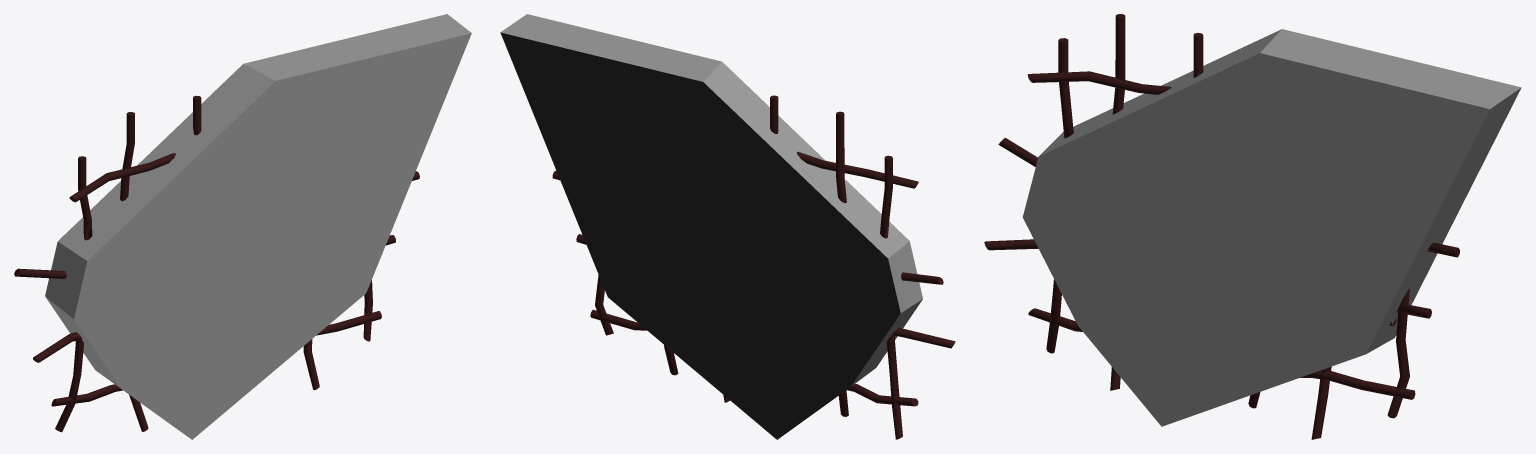
The model's file is P_DébrisSeul1.fbx.
3 renders of one model, left to right at view 1: azimuth 30°, elevation 25°; view 2: azimuth 150°, elevation 25°; view 3: azimuth 330°, elevation 25°, orthographic. The views are drawn at different scales.
Parts seen in each view (by area): view 1: P_DébrisSeul1; view 2: P_DébrisSeul1; view 3: P_DébrisSeul1.
Boxes of the visible parts, <box> form: P_DébrisSeul1: <box>14,14,471,439</box>; P_DébrisSeul1: <box>500,14,955,439</box>; P_DébrisSeul1: <box>984,14,1521,439</box>.
Bounding box in the file's own units: 295 × 220 × 30.
